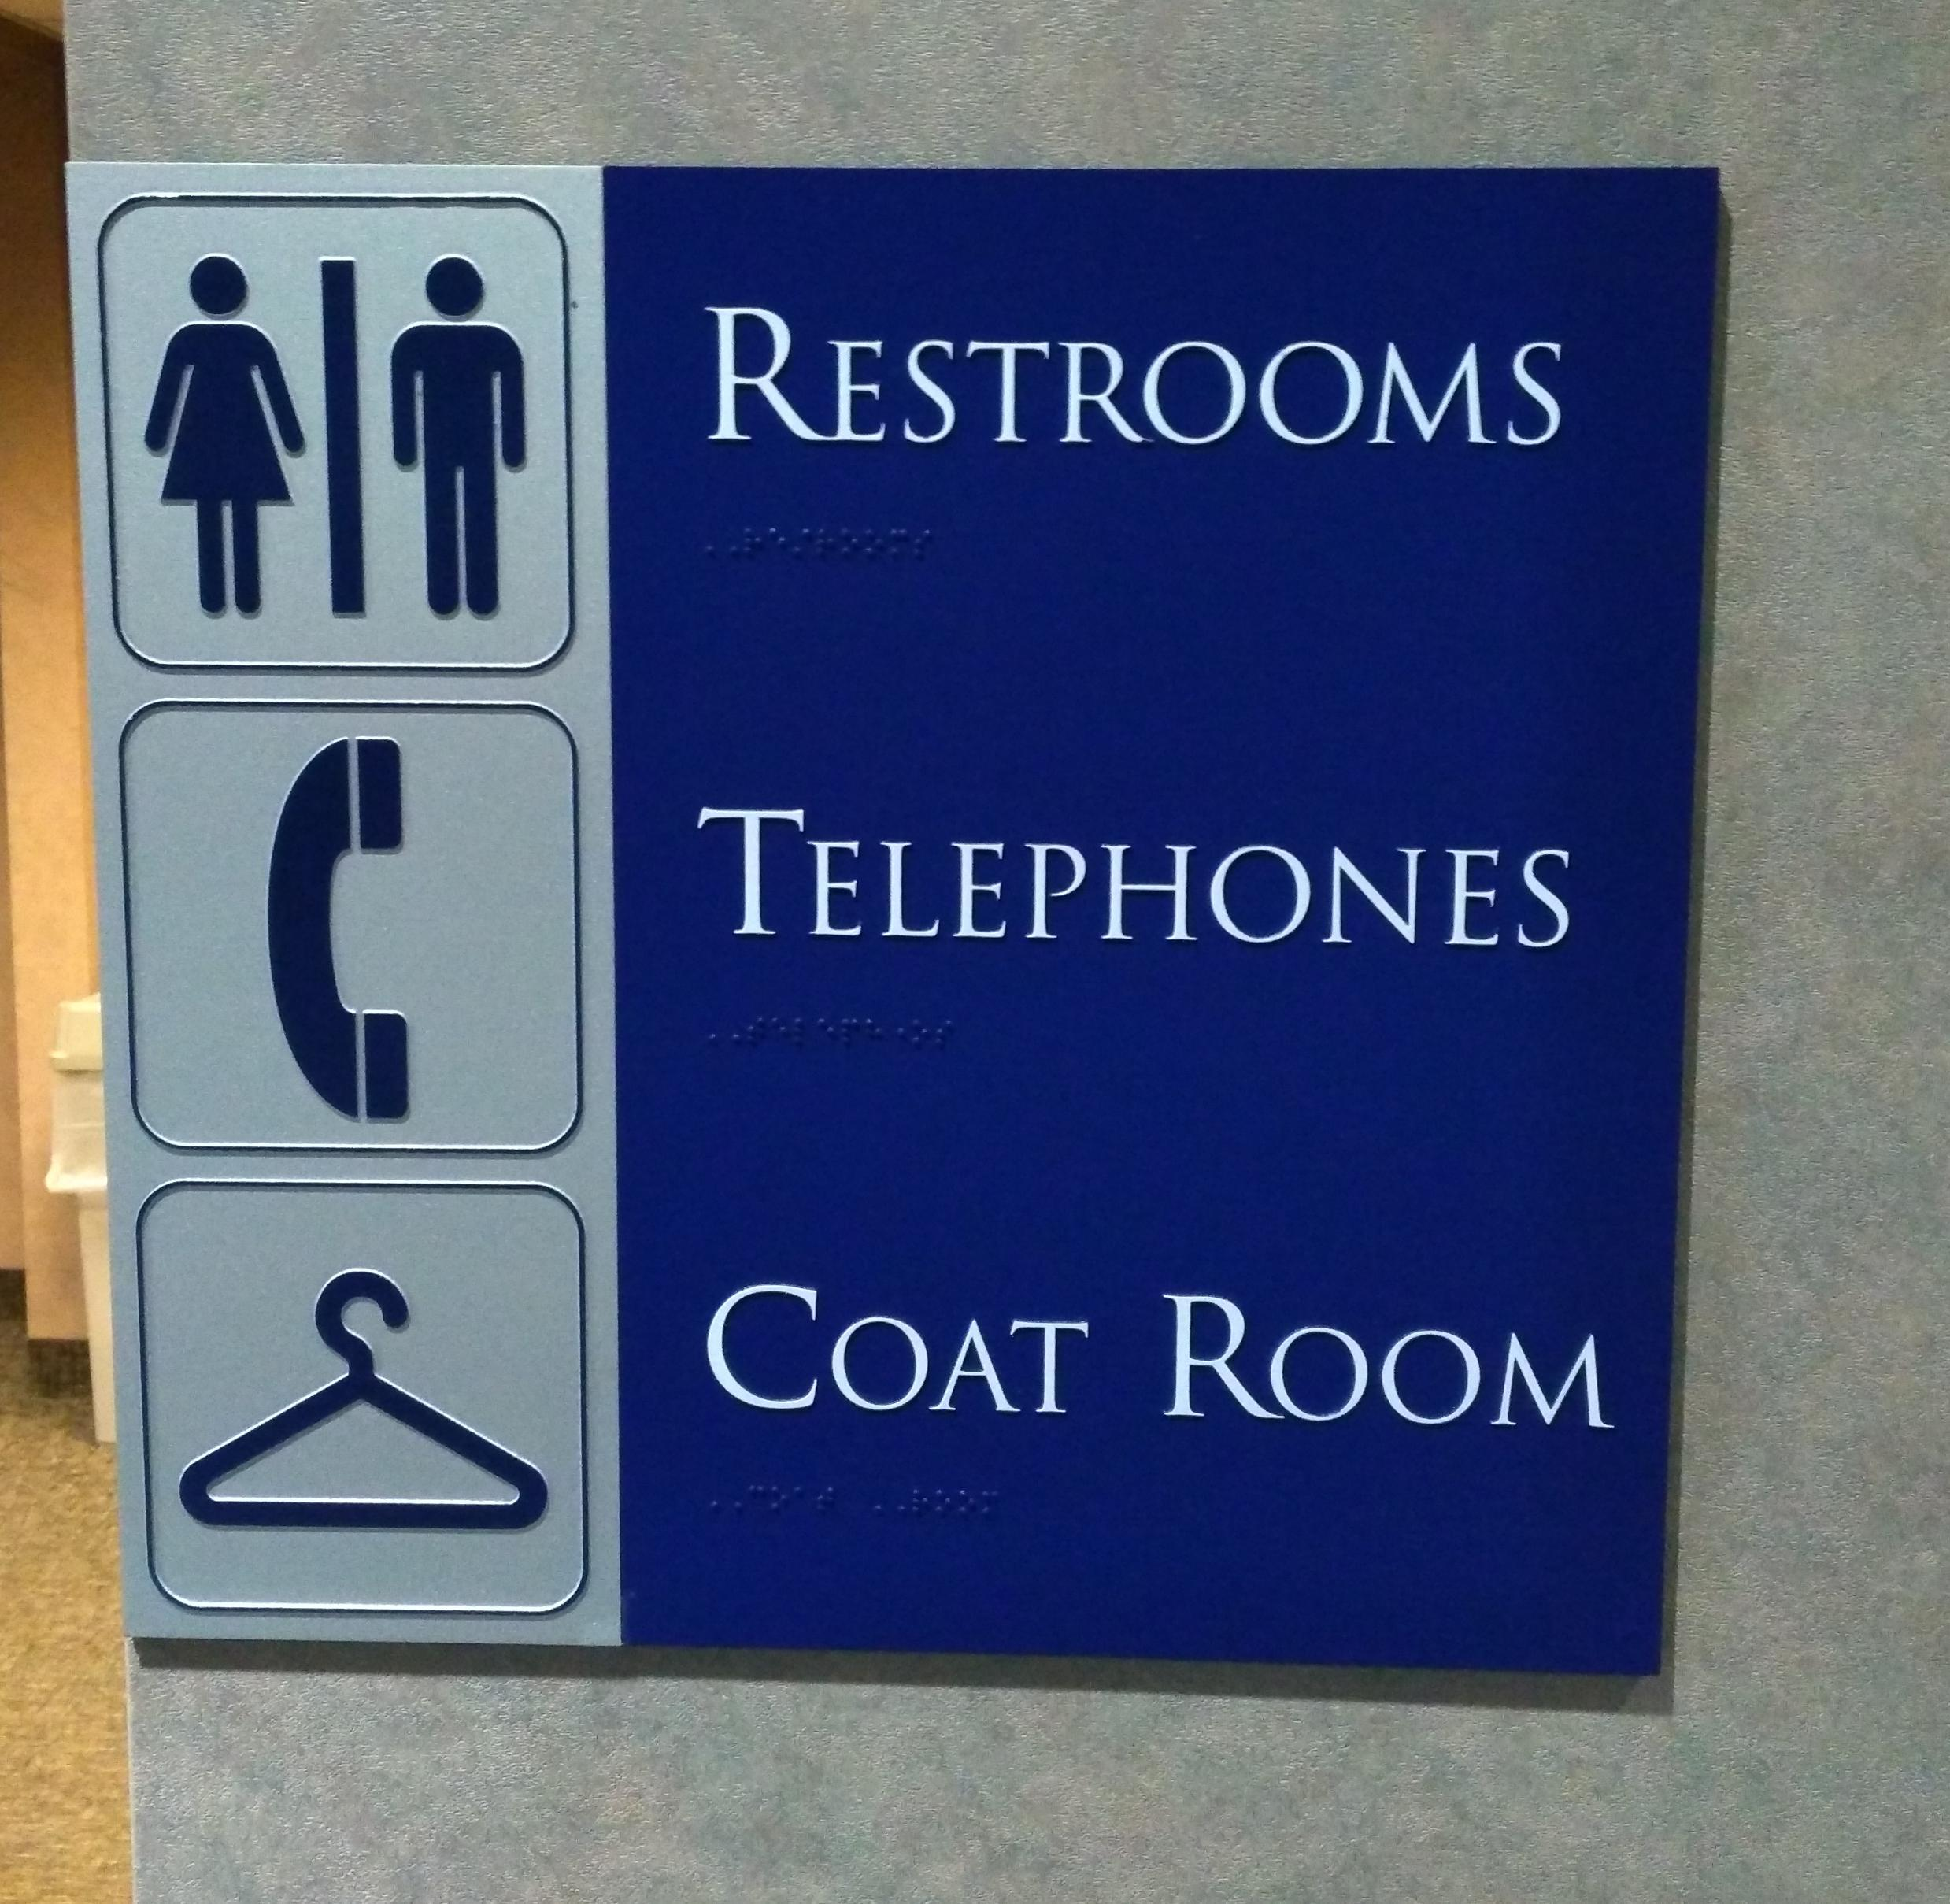sign_readable: (683, 286, 1591, 547), (669, 792, 1640, 1008), (699, 1273, 1624, 1465)
